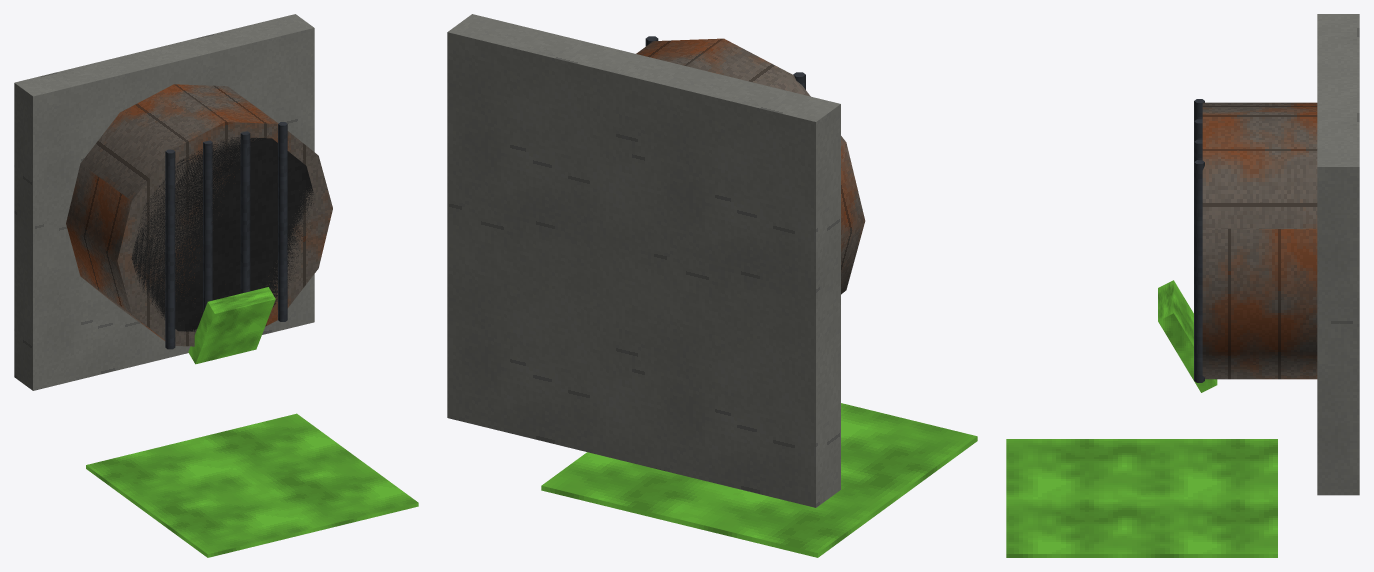
The model's file is tfg_sewer_outflow.glb.
The picture shows the model from 3 angles, left to right: view 1: azimuth 30°, elevation 25°; view 2: azimuth 150°, elevation 25°; view 3: azimuth 270°, elevation 25°; orthographic projection. The views are drawn at different scales.
Parts seen in each view (by area): view 1: tfg_sewer_outflow; view 2: tfg_sewer_outflow; view 3: tfg_sewer_outflow.
Part boxes in pixels (x1=…): tfg_sewer_outflow: x1=14, y1=14, x2=418, y2=557; tfg_sewer_outflow: x1=447, y1=14, x2=977, y2=557; tfg_sewer_outflow: x1=1006, y1=14, x2=1359, y2=557.
Size of the model in its own units: 1.2 by 1.5 by 1.17.
Materials: 5 (5 with a texture image).
